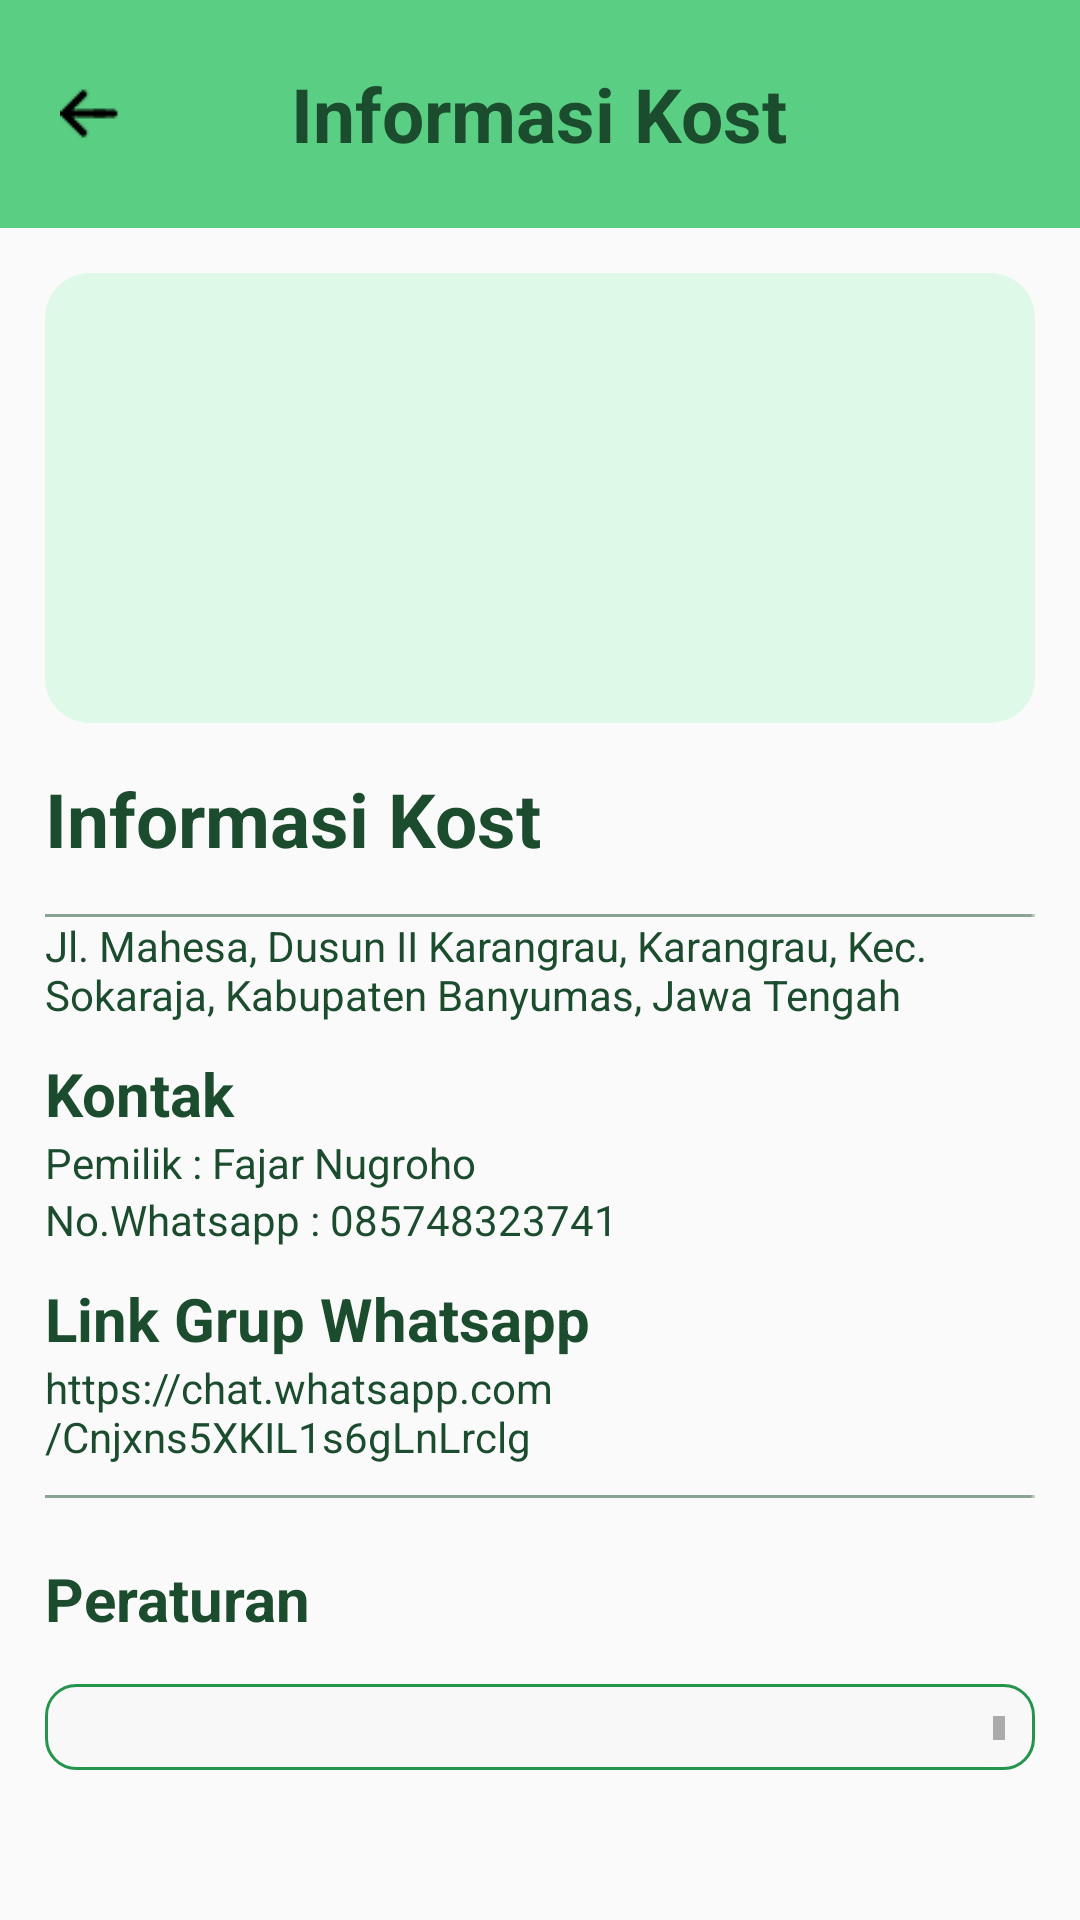

Where icons sit on this 1080 x 1920 app screen, as (x1, y1, x2, y2):
back: (60, 89, 118, 138)
